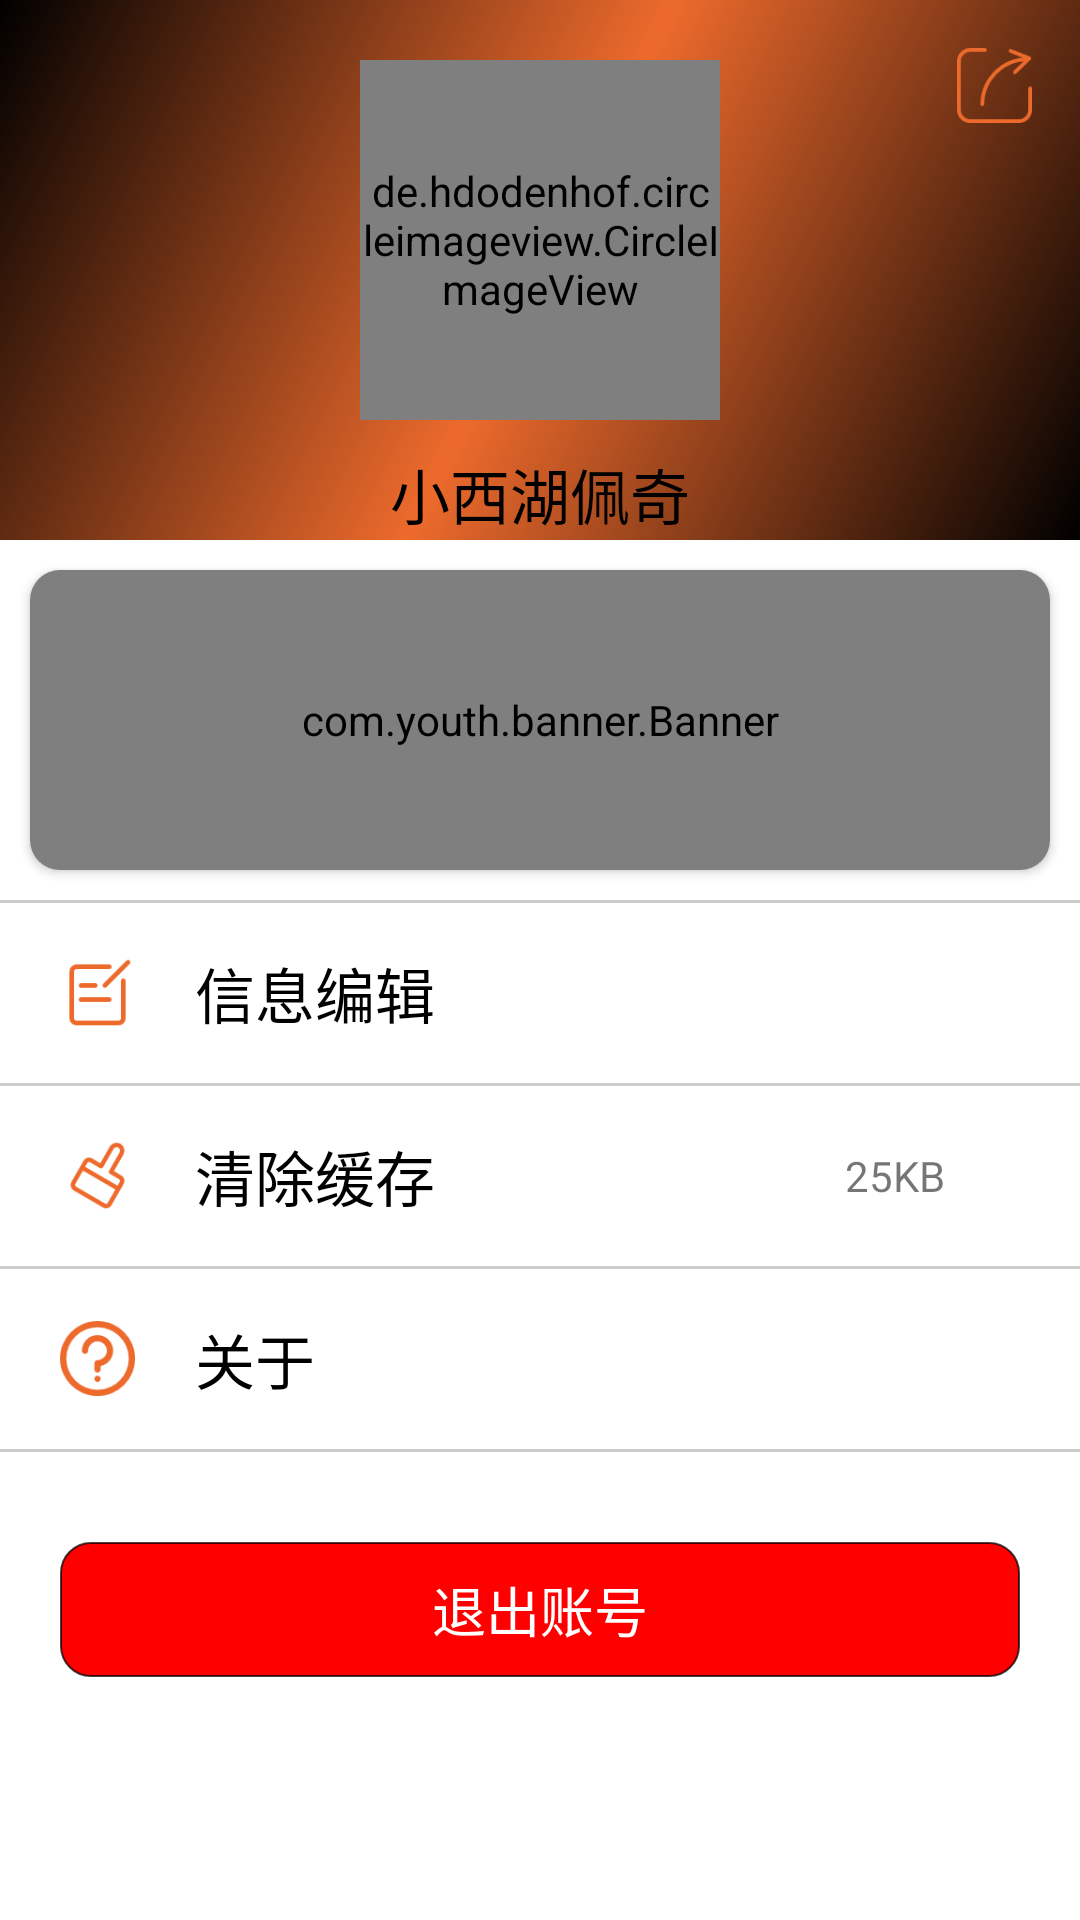

Locate icon controls on the screen. Image size 1080 × 1920, boxes as BBox(x1, y1, x2, y2).
about: BBox(60, 1321, 135, 1396)
cache: BBox(70, 1142, 125, 1209)
edit: BBox(69, 959, 131, 1026)
share: BBox(957, 48, 1032, 123)
